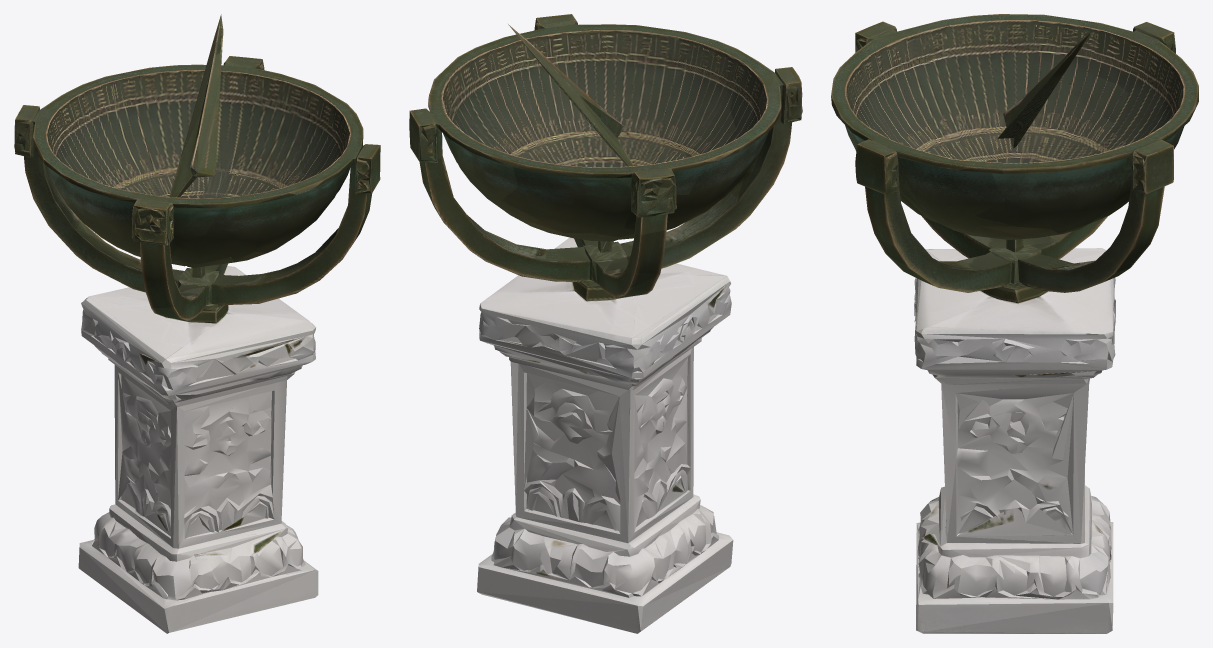
File: sundial.glb
3 renders of one model, left to right at view 1: azimuth 30°, elevation 25°; view 2: azimuth 150°, elevation 25°; view 3: azimuth 270°, elevation 25°, orthographic. The views are drawn at different scales.
Bounding box in the file's own units: 1.07 × 1.9 × 1.07.
Materials: 1 (1 with a texture image).
